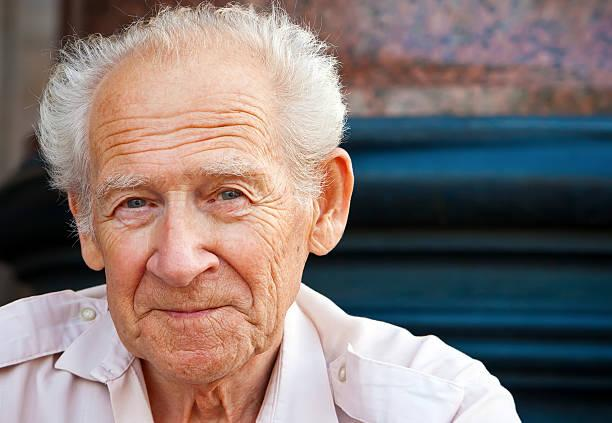Wrinkles: (100, 135, 256, 172), (206, 248, 256, 309), (96, 109, 218, 129), (142, 123, 266, 136), (131, 250, 155, 315), (241, 220, 274, 243), (100, 128, 145, 144), (253, 215, 282, 239), (202, 93, 265, 103), (235, 109, 270, 124), (187, 146, 245, 155), (232, 100, 267, 113), (270, 261, 277, 322), (104, 139, 142, 150), (222, 183, 254, 196), (209, 319, 223, 341), (258, 234, 274, 252), (110, 195, 129, 208), (258, 190, 274, 202), (254, 206, 287, 210), (180, 349, 213, 352), (95, 219, 114, 224), (122, 163, 166, 165), (262, 210, 276, 216), (274, 257, 280, 271), (261, 199, 281, 203), (237, 309, 248, 315), (246, 321, 258, 326), (221, 112, 238, 114)
